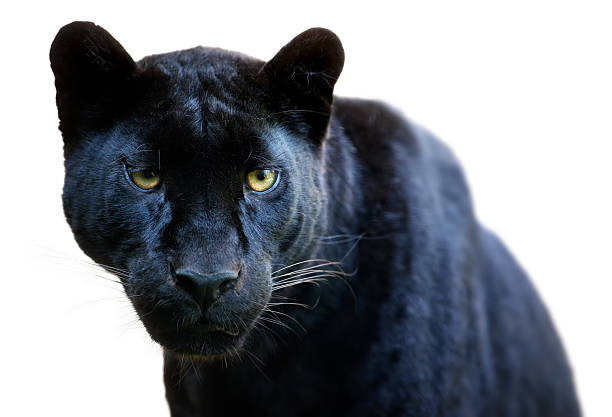panther: (30, 13, 404, 387)
